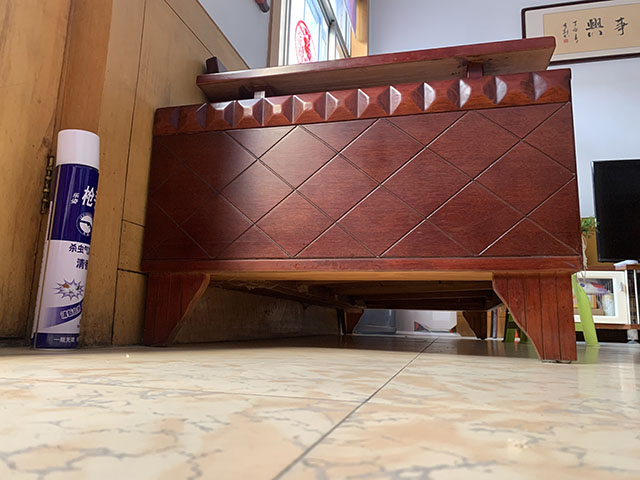sofa: (138, 35, 586, 366)
